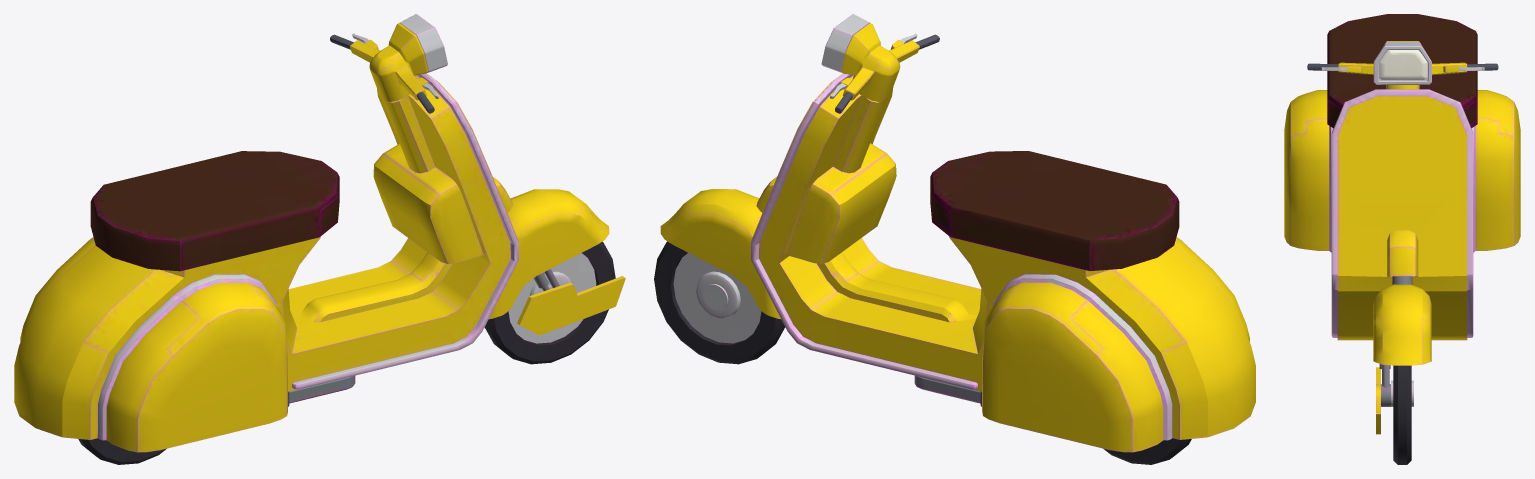
File: vespa.glb
3 renders of one model, left to right at view 1: azimuth 30°, elevation 25°; view 2: azimuth 150°, elevation 25°; view 3: azimuth 270°, elevation 25°, orthographic. The views are drawn at different scales.
Parts seen in each view (by area): view 1: vespa_chasis1_blinn1_0, wheel_cap1_blinn2_0, Wheel_2_blinn4_0, Handlebar_blinn3_0; view 2: vespa_chasis1_blinn1_0, Wheel_2_blinn4_0, wheel_cap1_blinn2_0, Handlebar_blinn3_0; view 3: vespa_chasis1_blinn1_0, wheel_cap1_blinn2_0, Handlebar_blinn3_0, Wheel_2_blinn4_0.
Part boxes in pixels (bbox=[...]): vespa_chasis1_blinn1_0: bbox=[14, 73, 518, 452]; wheel_cap1_blinn2_0: bbox=[489, 189, 625, 335]; Wheel_2_blinn4_0: bbox=[78, 241, 615, 464]; Handlebar_blinn3_0: bbox=[330, 14, 447, 113]; vespa_chasis1_blinn1_0: bbox=[750, 73, 1255, 452]; Wheel_2_blinn4_0: bbox=[654, 241, 1191, 464]; wheel_cap1_blinn2_0: bbox=[660, 189, 780, 319]; Handlebar_blinn3_0: bbox=[821, 14, 939, 113]; vespa_chasis1_blinn1_0: bbox=[1284, 14, 1520, 340]; wheel_cap1_blinn2_0: bbox=[1373, 284, 1431, 434]; Handlebar_blinn3_0: bbox=[1307, 41, 1498, 89]; Wheel_2_blinn4_0: bbox=[1391, 365, 1413, 464].
Size of the model in its own units: 61.91 by 37.39 by 22.55.
4 materials, 4 textured.
